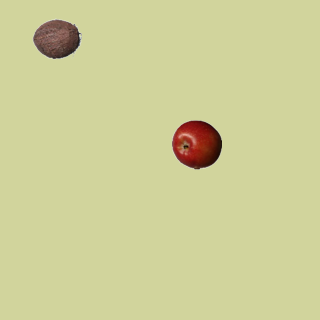Apple Braeburn: (171, 119, 221, 169)
Cocos: (31, 13, 81, 63)
